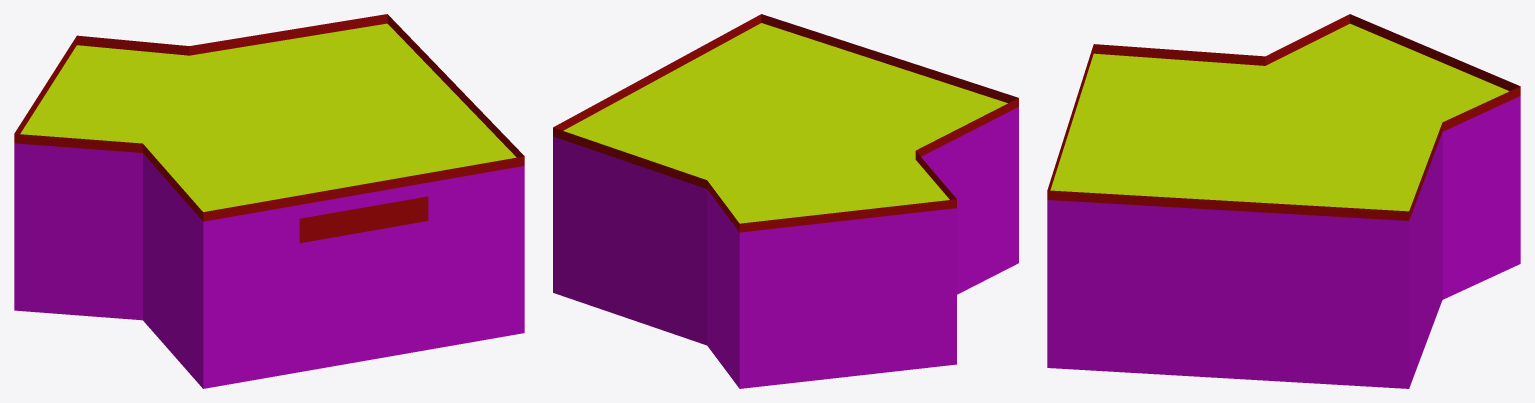
Rendered from bgj_397.glb.
The picture shows the model from 3 angles, left to right: view 1: azimuth 30°, elevation 25°; view 2: azimuth 150°, elevation 25°; view 3: azimuth 270°, elevation 25°; orthographic projection. The views are drawn at different scales.
Visible parts, largest first — view 1: bgj_397; view 2: bgj_397; view 3: bgj_397.
Boxes of the visible parts, bbox=[...] form: bgj_397: bbox=[14, 14, 524, 388]; bgj_397: bbox=[553, 14, 1018, 388]; bgj_397: bbox=[1047, 14, 1520, 388].
Size of the model in its own units: 15.45 by 6.48 by 15.65.
